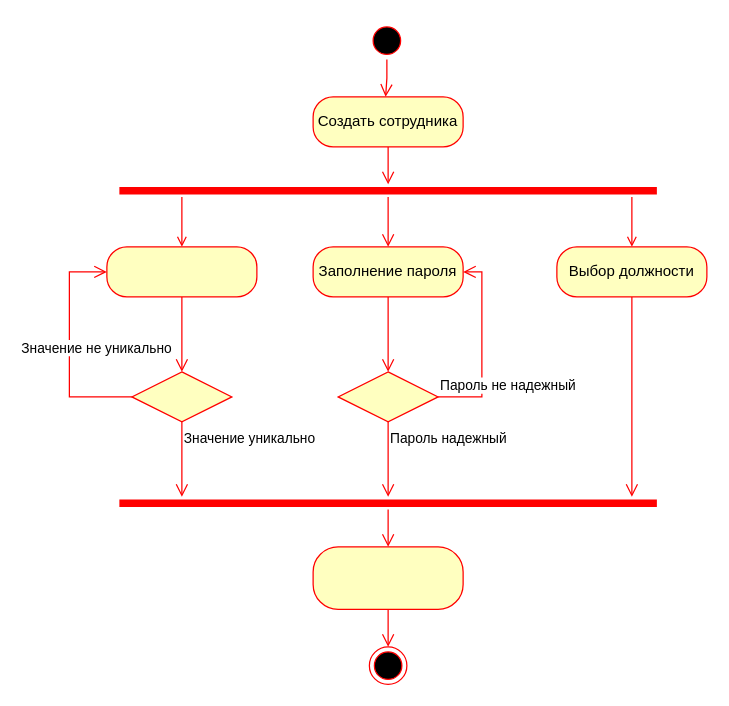
This 729x706 diagram has some shape labels left out. The shapes that lost their labels are listed below. From the top down, each one's box as (x1, y1, x2, y2) in pixels, then its label:
(106, 246, 257, 297): Заполнение логина
(312, 546, 463, 609): Сохранить данные и создать
